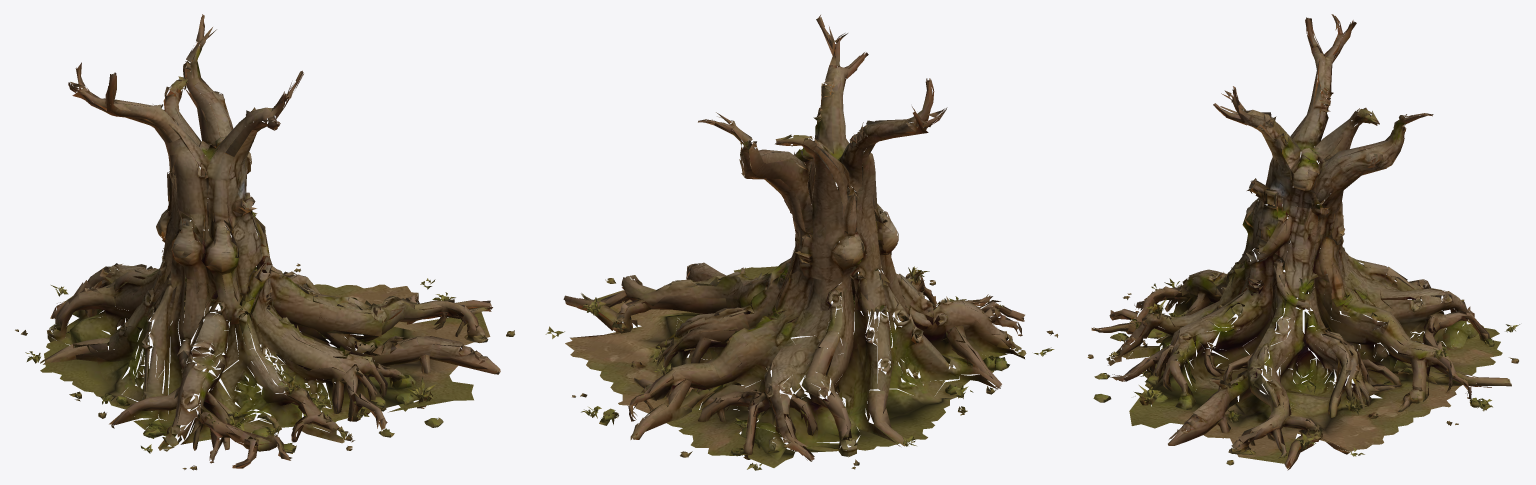
File: jun_giant_surface_roots_a_LOD1.glb
The picture shows the model from 3 angles, left to right: view 1: azimuth 30°, elevation 25°; view 2: azimuth 150°, elevation 25°; view 3: azimuth 270°, elevation 25°; orthographic projection. The views are drawn at different scales.
Parts seen in each view (by area): view 1: tripo_node_d526340f-c0b6-4e44-b6e3-9aaa0535eabd; view 2: tripo_node_d526340f-c0b6-4e44-b6e3-9aaa0535eabd; view 3: tripo_node_d526340f-c0b6-4e44-b6e3-9aaa0535eabd.
Part boxes in pixels (x1,y1,x2,y2): tripo_node_d526340f-c0b6-4e44-b6e3-9aaa0535eabd: (15,14,514,470); tripo_node_d526340f-c0b6-4e44-b6e3-9aaa0535eabd: (545,15,1058,470); tripo_node_d526340f-c0b6-4e44-b6e3-9aaa0535eabd: (1087,14,1519,470).
Size of the model in its own units: 0.9981 by 0.7522 by 0.9947.
Materials: 1 (1 with a texture image).
